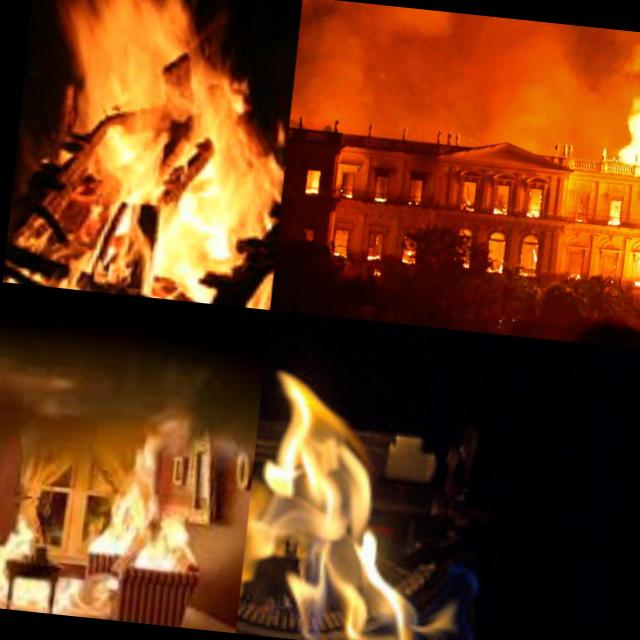fire: (2, 0, 302, 309), (235, 312, 508, 640), (86, 421, 216, 573), (0, 500, 67, 613), (614, 72, 640, 172), (602, 197, 628, 227), (452, 197, 477, 220), (526, 202, 548, 225), (490, 202, 510, 223), (629, 253, 640, 284), (635, 198, 640, 235)
smoke: (290, 0, 618, 138)
